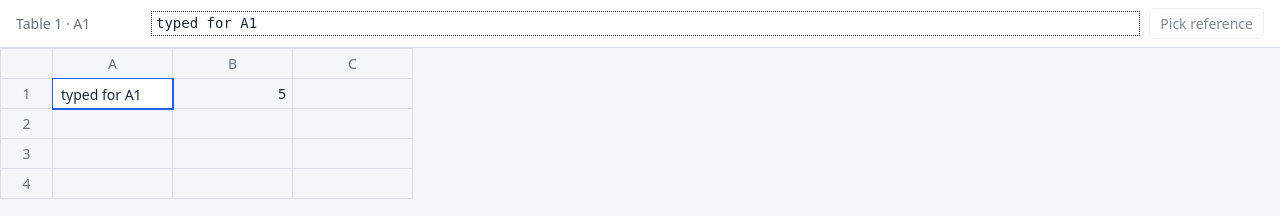
FormulaBar › saves to the captured target before a grid click changes selection
This screenshot has width=1280, height=216.
Press the mouse on the cell "5" at (232, 94), box [172,78,292,108]
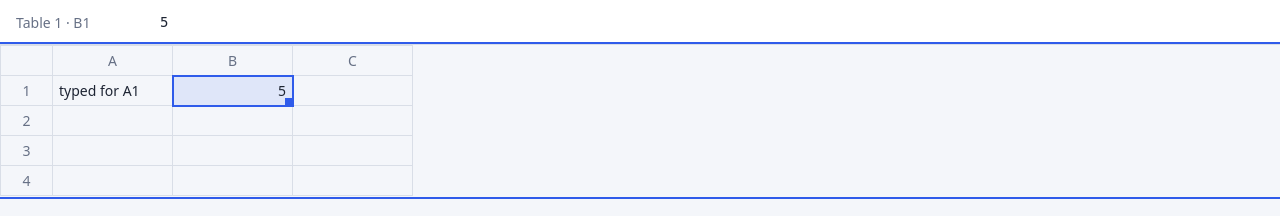
Check: the text "typed for A1" is shown, box [59,80,140,100]
Check: the field named "Formula" holds "5", box [152,8,1264,36]
